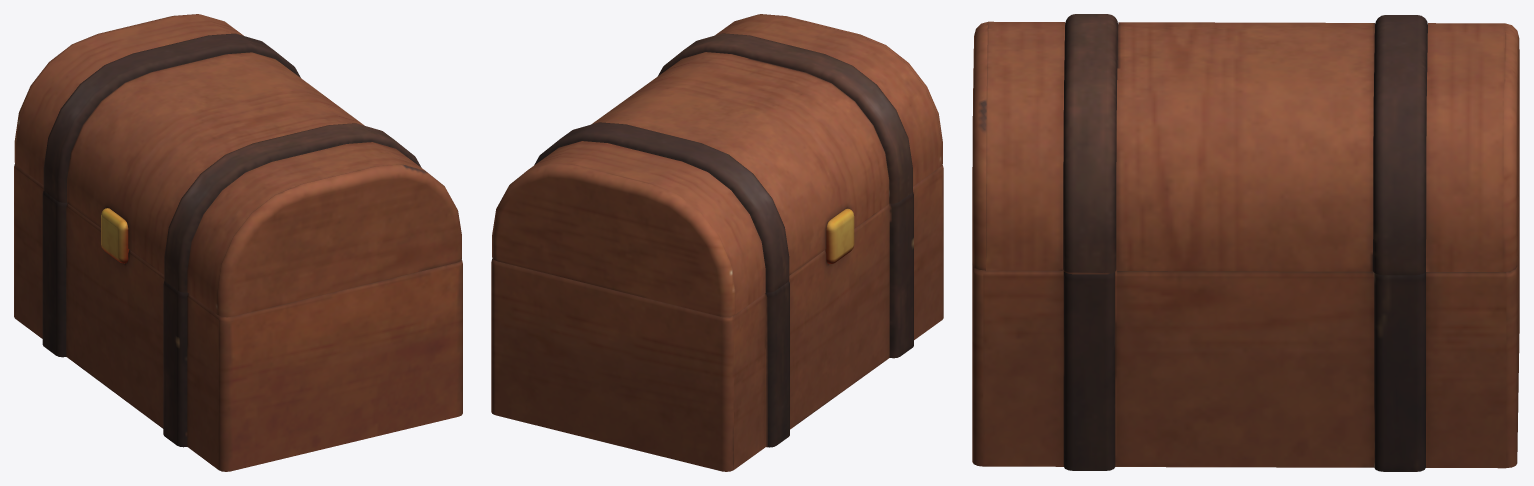
Rendered from SM_Chest.fbx.
3 renders of one model, left to right at view 1: azimuth 30°, elevation 25°; view 2: azimuth 150°, elevation 25°; view 3: azimuth 270°, elevation 25°, orthographic. The views are drawn at different scales.
Visible parts, largest first — view 1: SM_Chest_LOD0; view 2: SM_Chest_LOD0; view 3: SM_Chest_LOD0.
Boxes of the visible parts, box(x1,y1,x2,y2) form: SM_Chest_LOD0: box(14, 14, 462, 471); SM_Chest_LOD0: box(491, 14, 943, 471); SM_Chest_LOD0: box(972, 14, 1519, 471).
Bounding box in the file's own units: 21.77 × 31.64 × 21.91.
Materials: 1 (1 with a texture image).
